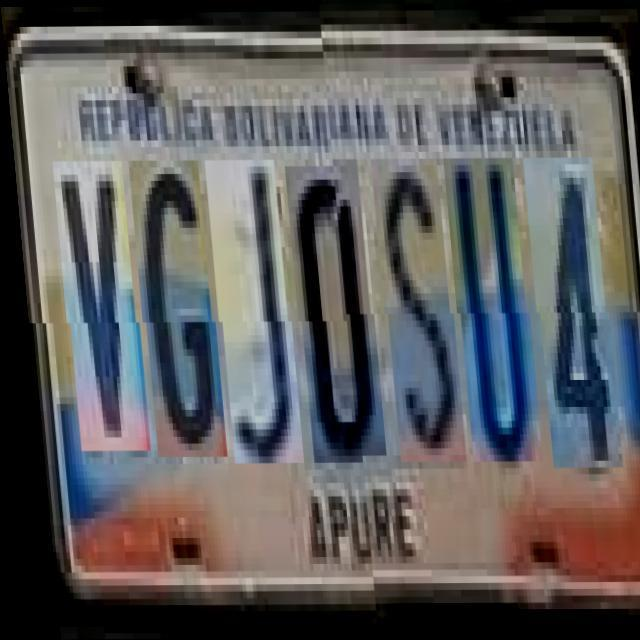0: (285, 166, 378, 463)
4: (524, 165, 614, 476)
G: (128, 160, 218, 458)
J: (206, 160, 296, 464)
S: (372, 166, 458, 469)
U: (444, 166, 534, 469)
V: (53, 161, 142, 451)
